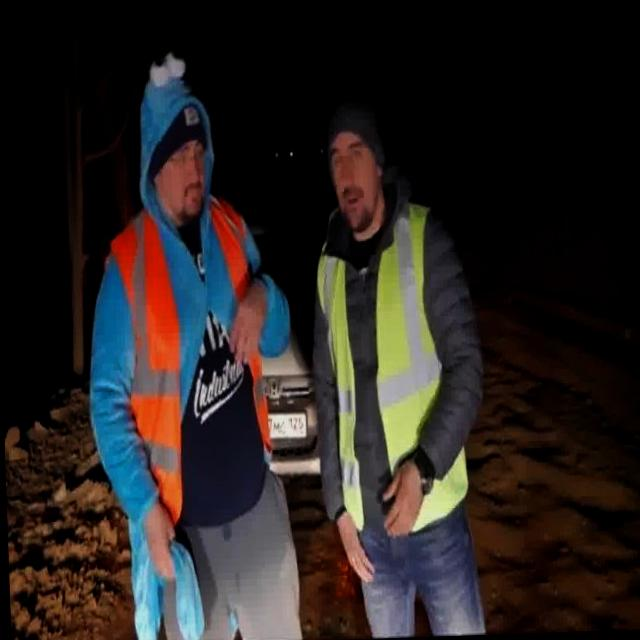vest: (106, 196, 277, 528), (309, 196, 470, 538)
